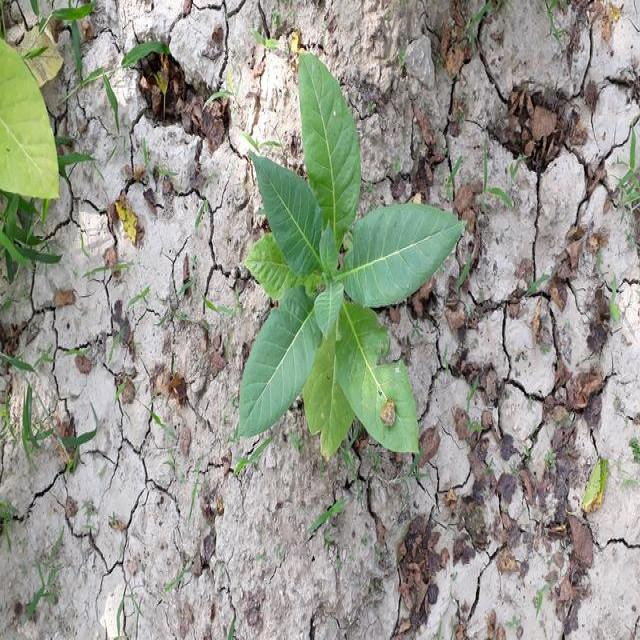crop: (251, 55, 451, 458), (0, 38, 61, 198)
